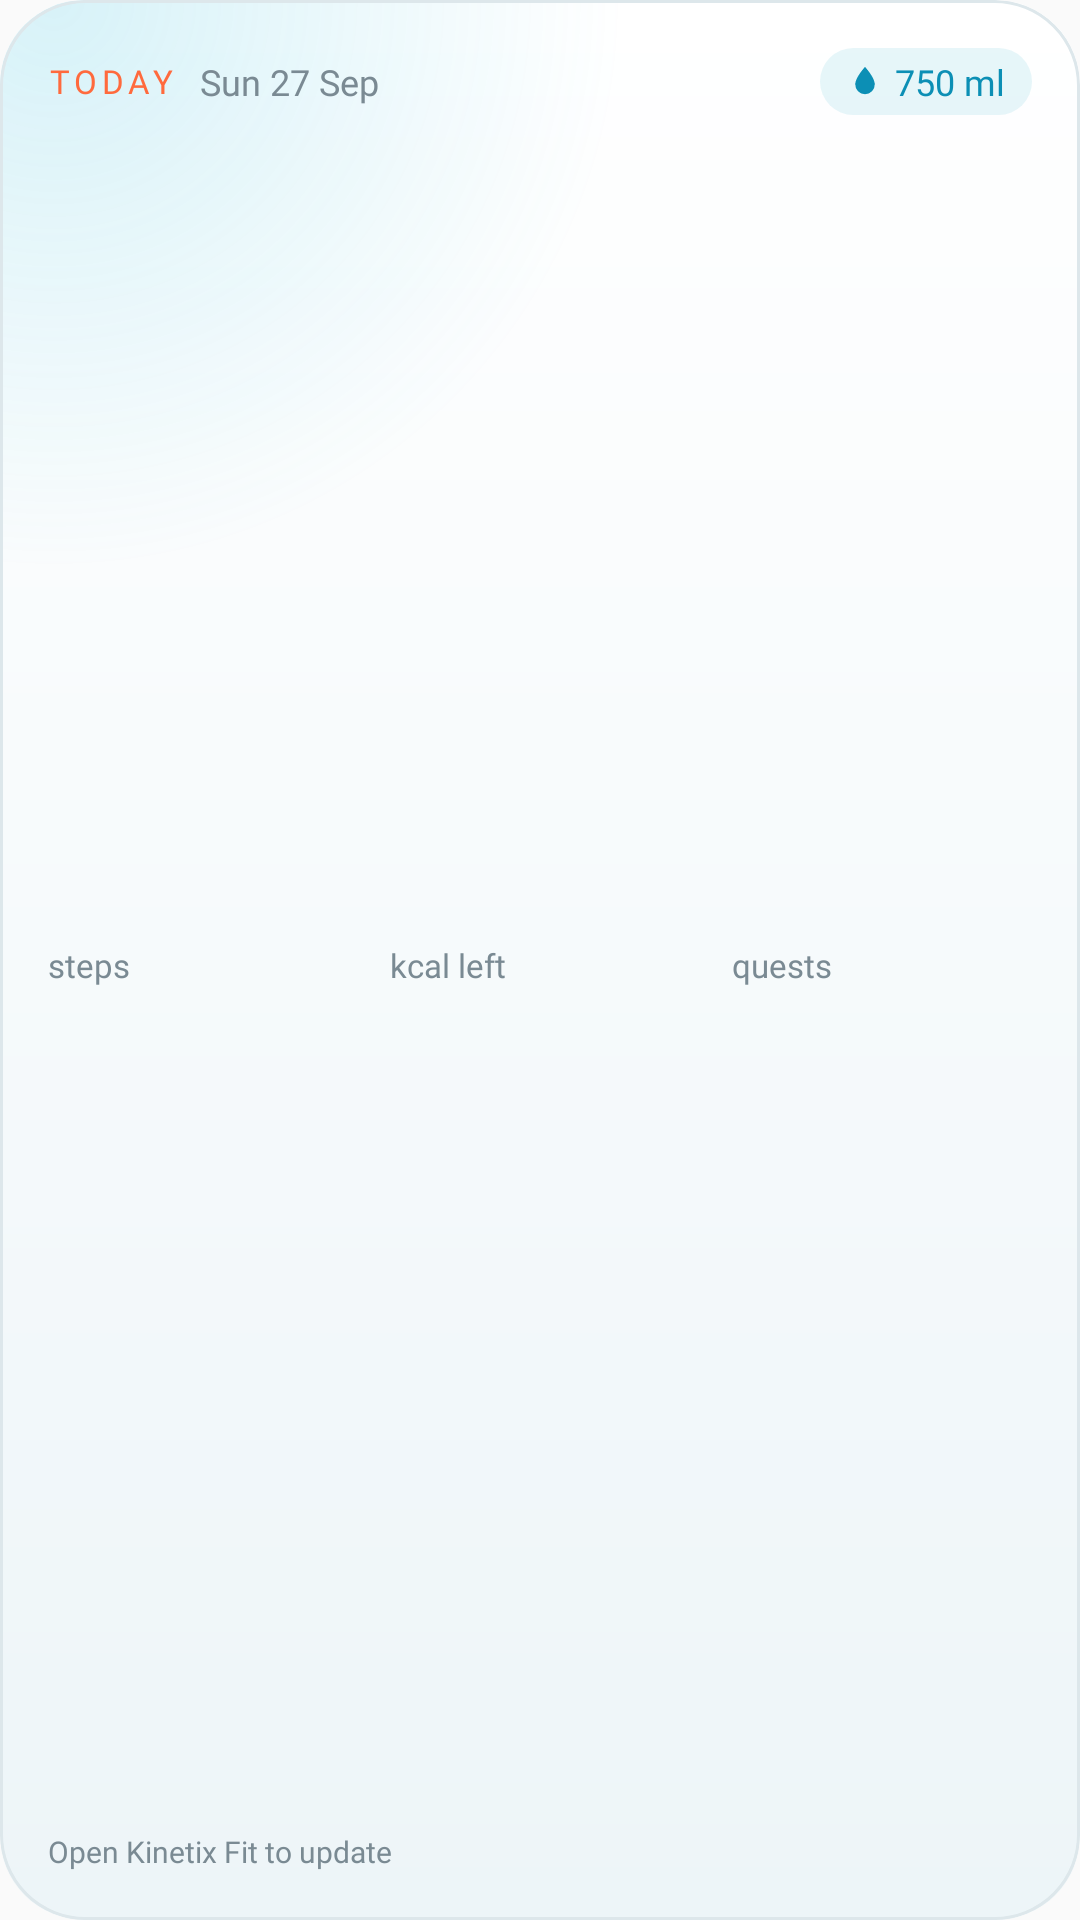

Screen size 1080×1920. Icon name, then its center in pixels as (x,y):
widget drop: (865,81)
